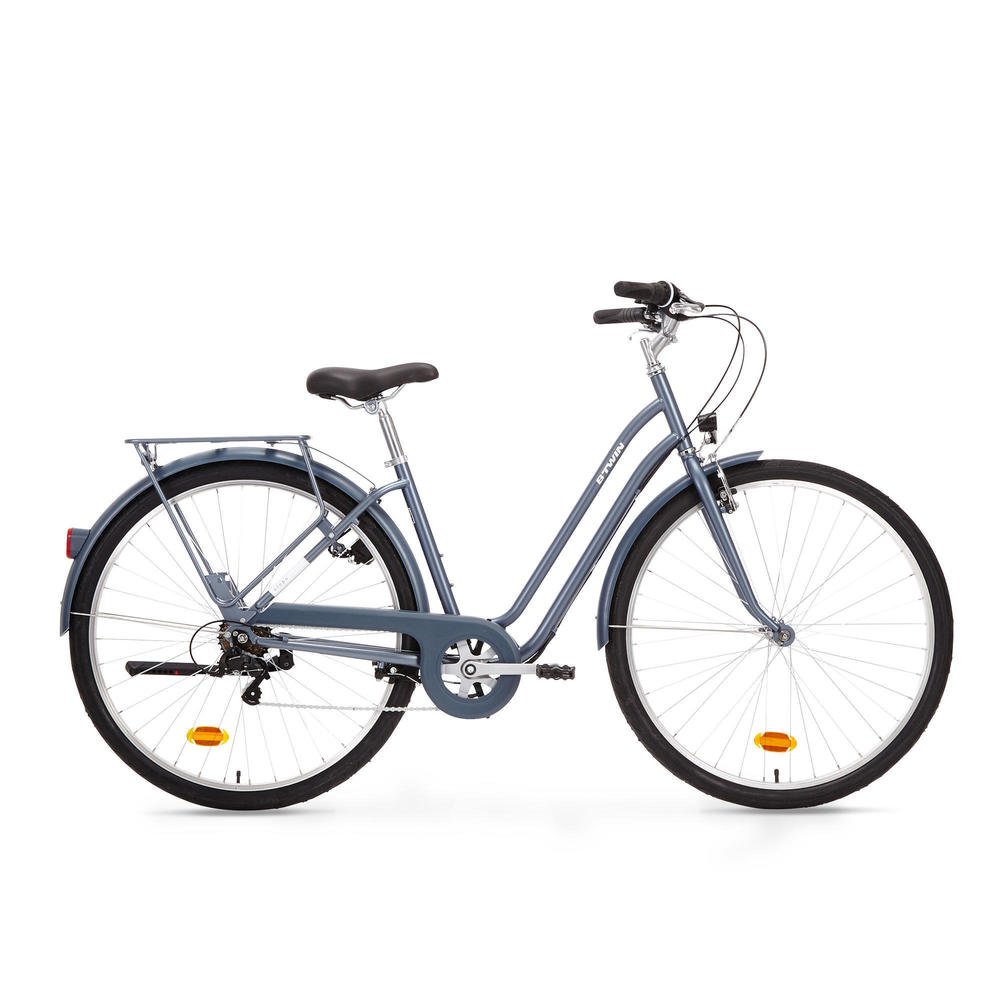UrbanBike: (57, 283, 938, 802)
